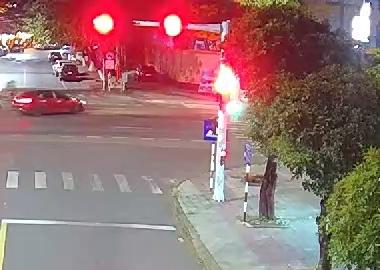red_light: (90, 10, 118, 35), (160, 13, 183, 38)
stop_line: (3, 219, 175, 230)
